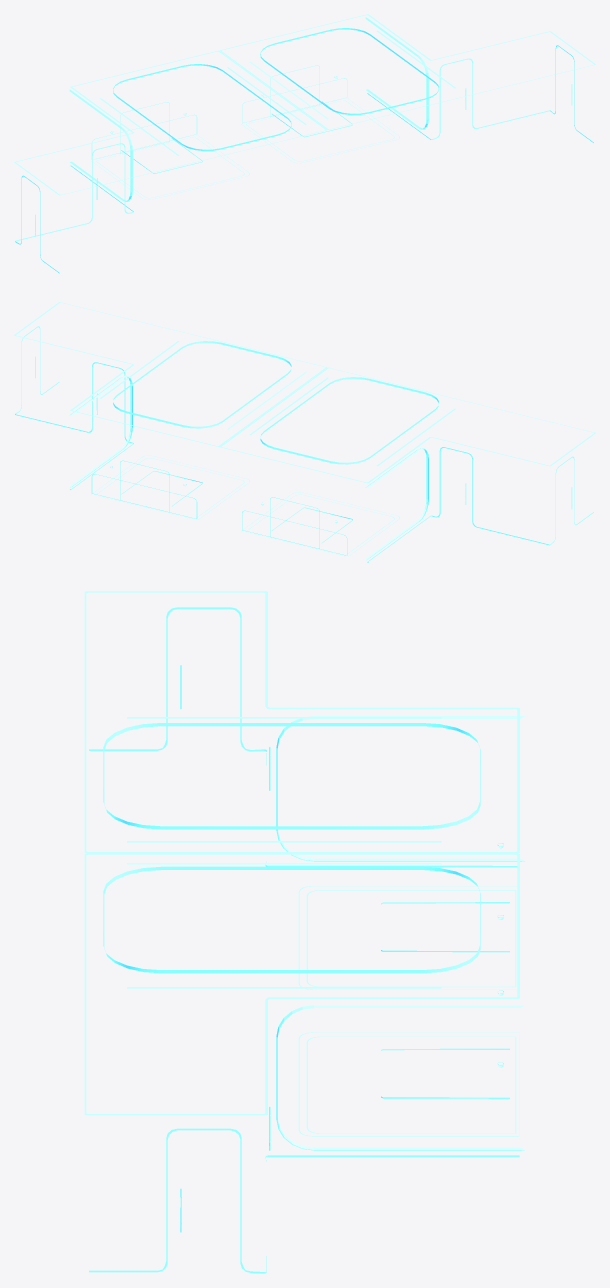
File: Room_Light_optimized.glb
The picture shows the model from 3 angles, top to bottom: view 1: azimuth 30°, elevation 25°; view 2: azimuth 150°, elevation 25°; view 3: azimuth 270°, elevation 25°; orthographic projection. The views are drawn at different scales.
Parts seen in each view (by area): view 1: Light; view 2: Light; view 3: Light.
Boxes of the visible parts, x1,y1,x2,y2 form: Light: [14, 14, 595, 273]; Light: [14, 302, 595, 562]; Light: [84, 591, 524, 1273].
Bounding box in the file's own units: 22.69 × 3.35 × 8.07.
